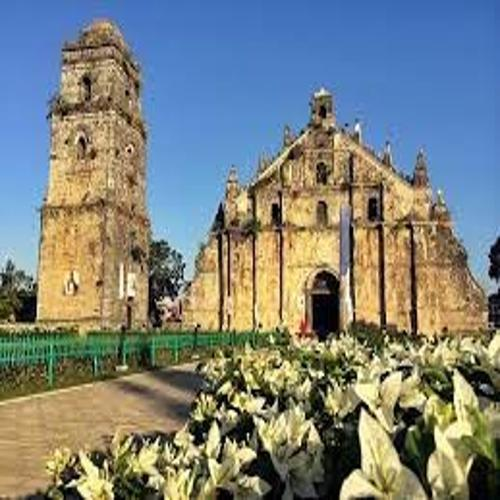Paoay Church: (33, 8, 495, 343)
